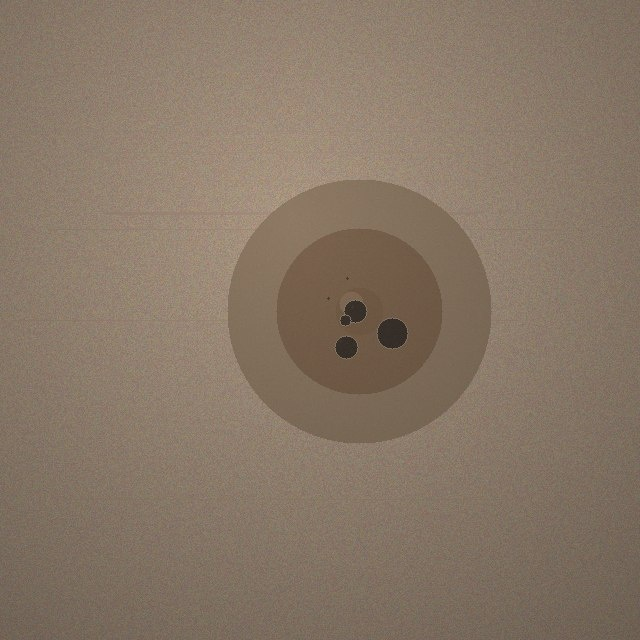shrinkage: (227, 179, 491, 443)
